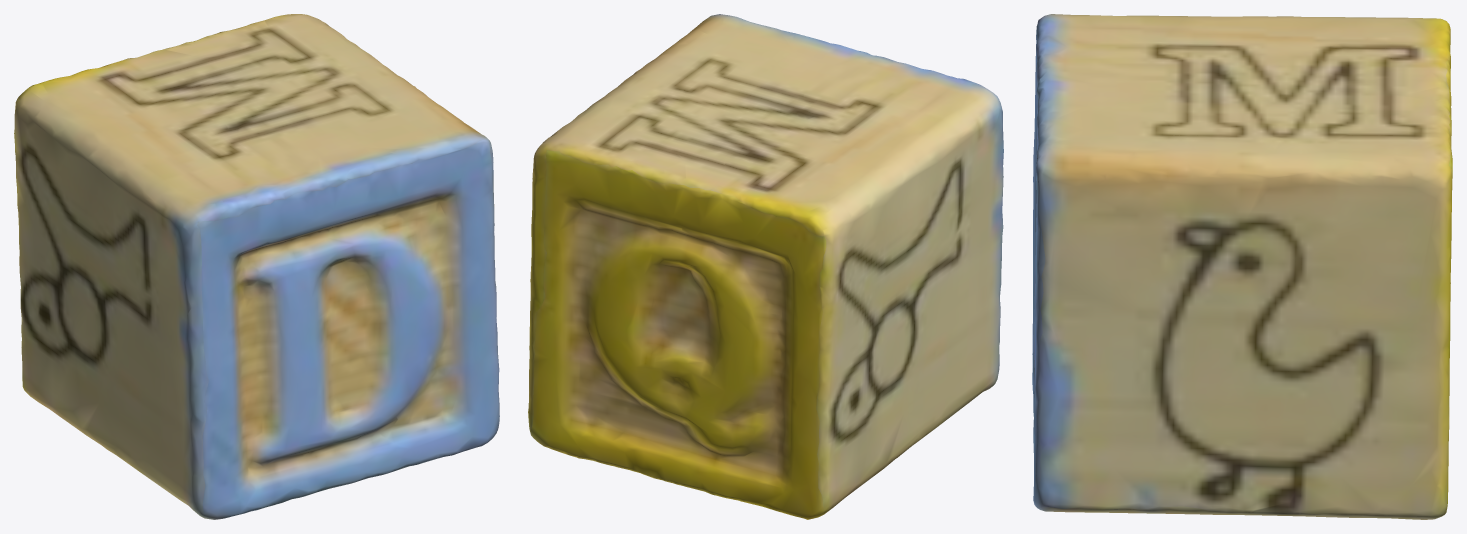
Rendered from Granimals_20_Wooden_ABC_Blocks_Wagon_85VdSftGsLi-high.glb.
3 renders of one model, left to right at view 1: azimuth 30°, elevation 25°; view 2: azimuth 150°, elevation 25°; view 3: azimuth 270°, elevation 25°, orthographic. The views are drawn at different scales.
Visible parts, largest first — view 1: Granimals_20_Wooden_ABC_Blocks_Wagon_85VdSftGsLi; view 2: Granimals_20_Wooden_ABC_Blocks_Wagon_85VdSftGsLi; view 3: Granimals_20_Wooden_ABC_Blocks_Wagon_85VdSftGsLi.
Part boxes in pixels (bbox=[...]): Granimals_20_Wooden_ABC_Blocks_Wagon_85VdSftGsLi: bbox=[14, 14, 499, 519]; Granimals_20_Wooden_ABC_Blocks_Wagon_85VdSftGsLi: bbox=[528, 14, 1003, 519]; Granimals_20_Wooden_ABC_Blocks_Wagon_85VdSftGsLi: bbox=[1032, 14, 1452, 519].
Size of the model in its own units: 0.0306 by 0.0305 by 0.0312.
1 material, 1 textured.
